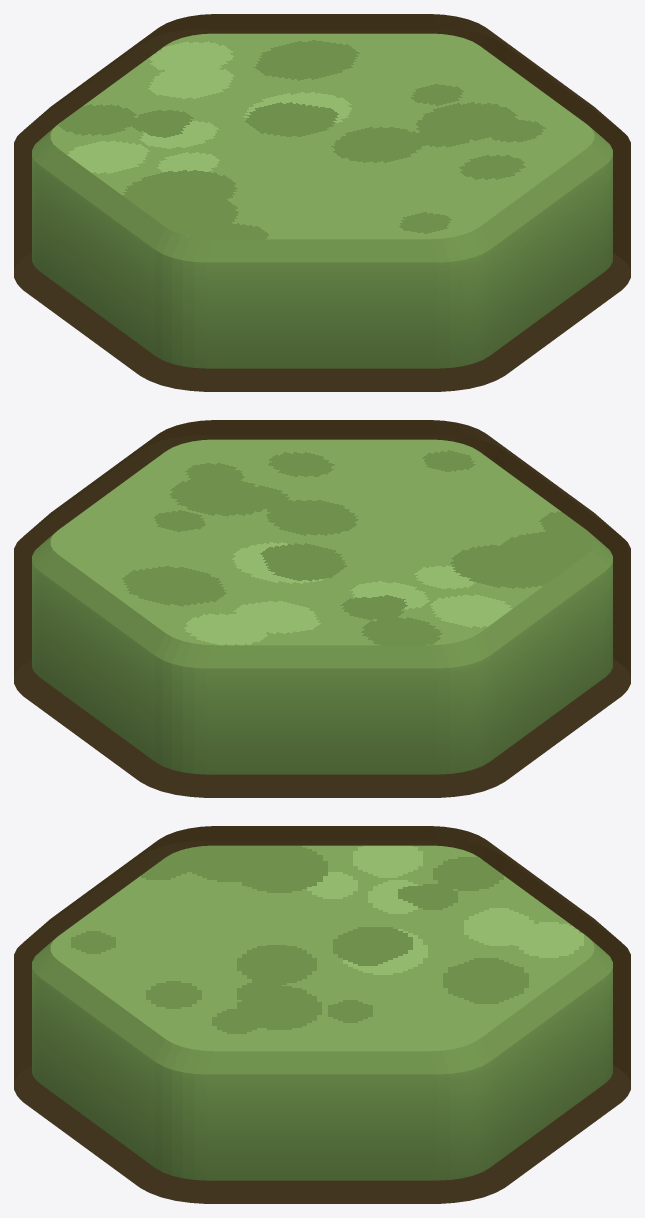
The model's file is hexTile.gltf.
The picture shows the model from 3 angles, top to bottom: view 1: azimuth 30°, elevation 25°; view 2: azimuth 150°, elevation 25°; view 3: azimuth 270°, elevation 25°; orthographic projection.
Parts seen in each view (by area): view 1: HexTile; view 2: HexTile; view 3: HexTile.
Boxes of the visible parts, x1,y1,x2,y2 form: HexTile: (14,14,630,391); HexTile: (14,420,630,797); HexTile: (14,826,630,1203).
Size of the model in its own units: 1.85 by 0.5676 by 2.06.
Materials: 2 (1 with a texture image).
